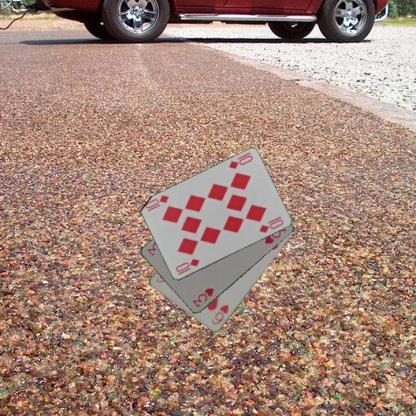10d: (173, 256, 200, 276), (226, 152, 254, 170)
3h: (190, 284, 215, 308)
6h: (209, 302, 230, 326)
